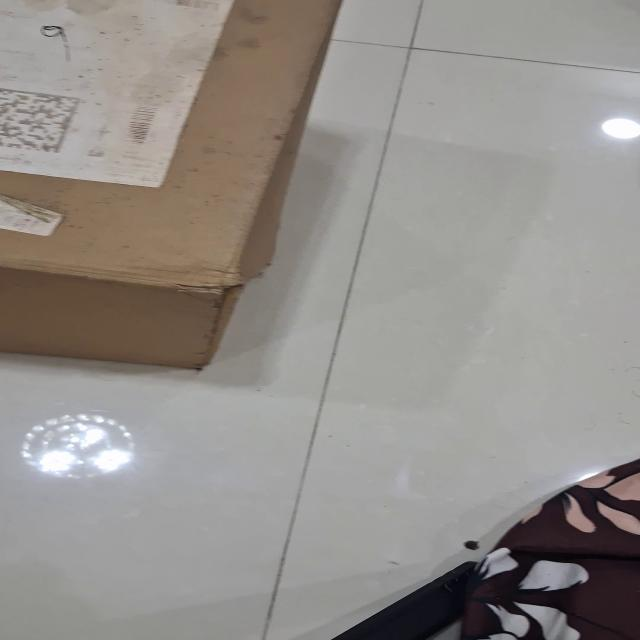paper: (0, 0, 235, 188)
